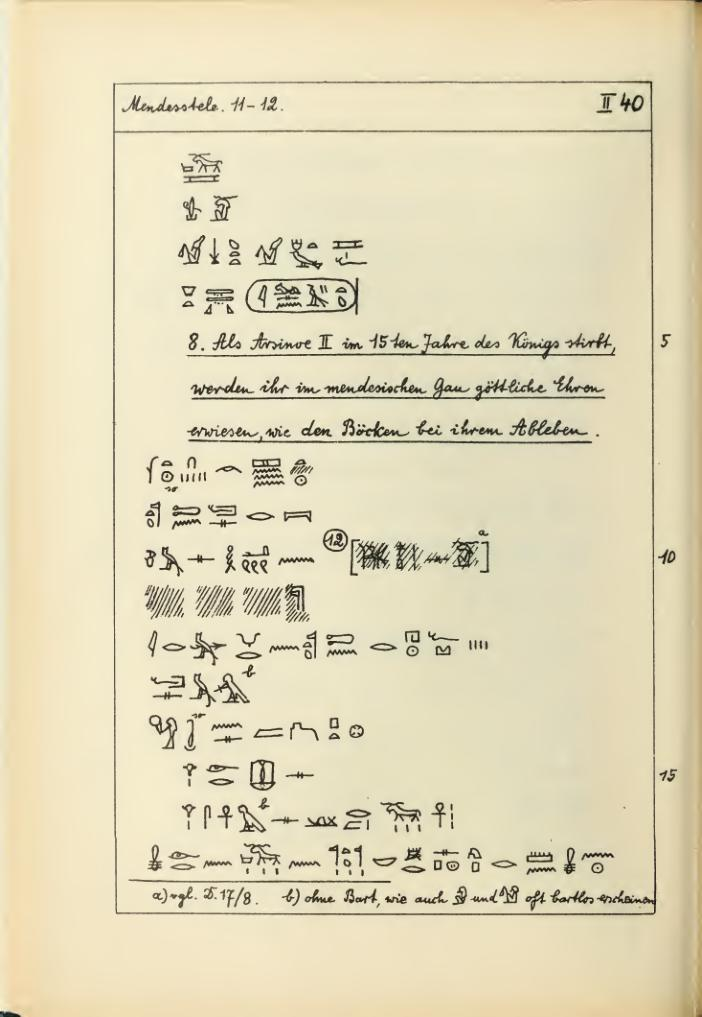circle: (239, 269, 375, 319)
